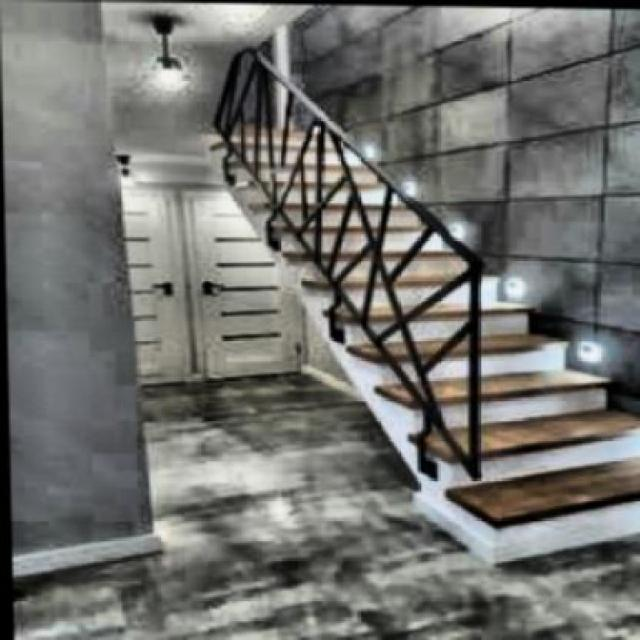stair: (194, 125, 638, 557)
